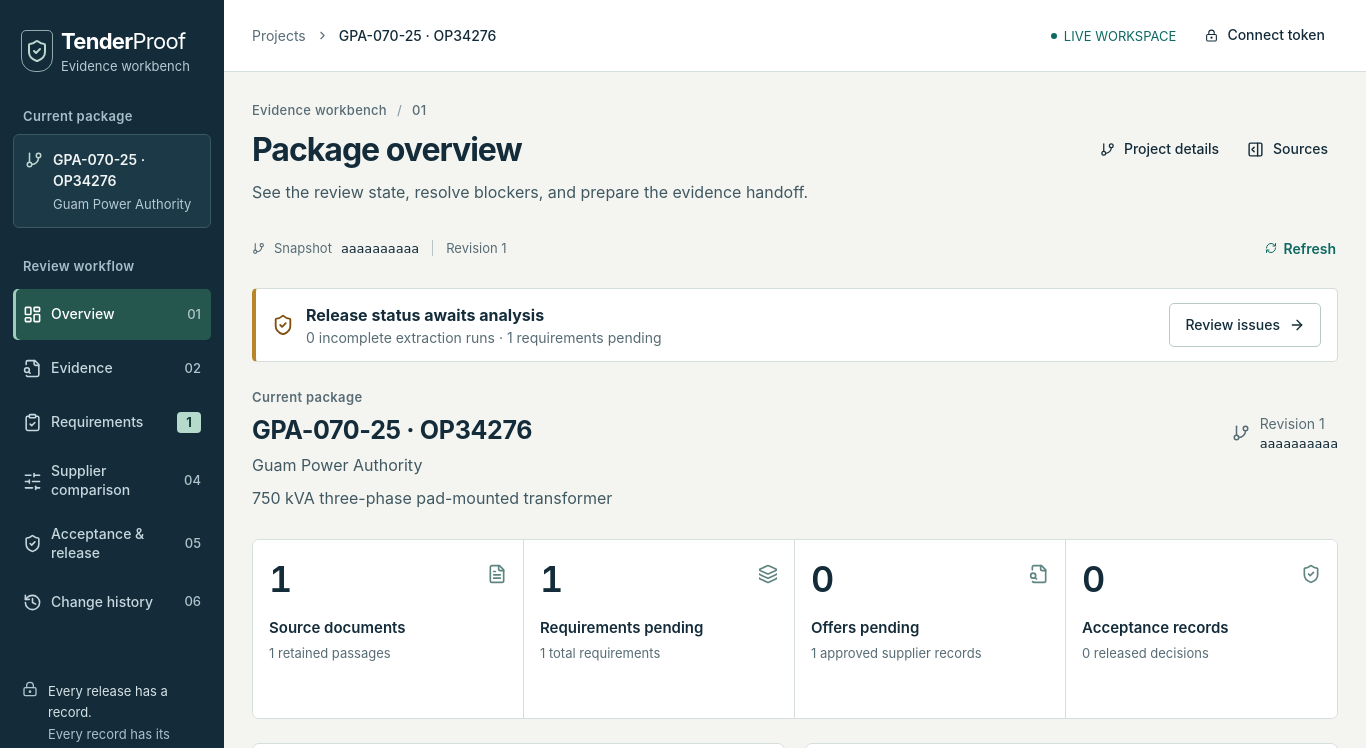
Test: live engineering workspace › shows currency and explicit price basis lot_total with a neutral heading
This screenshot has width=1366, height=748.
Click the button "Requirements 1" at (112,423), box [13, 397, 211, 448]
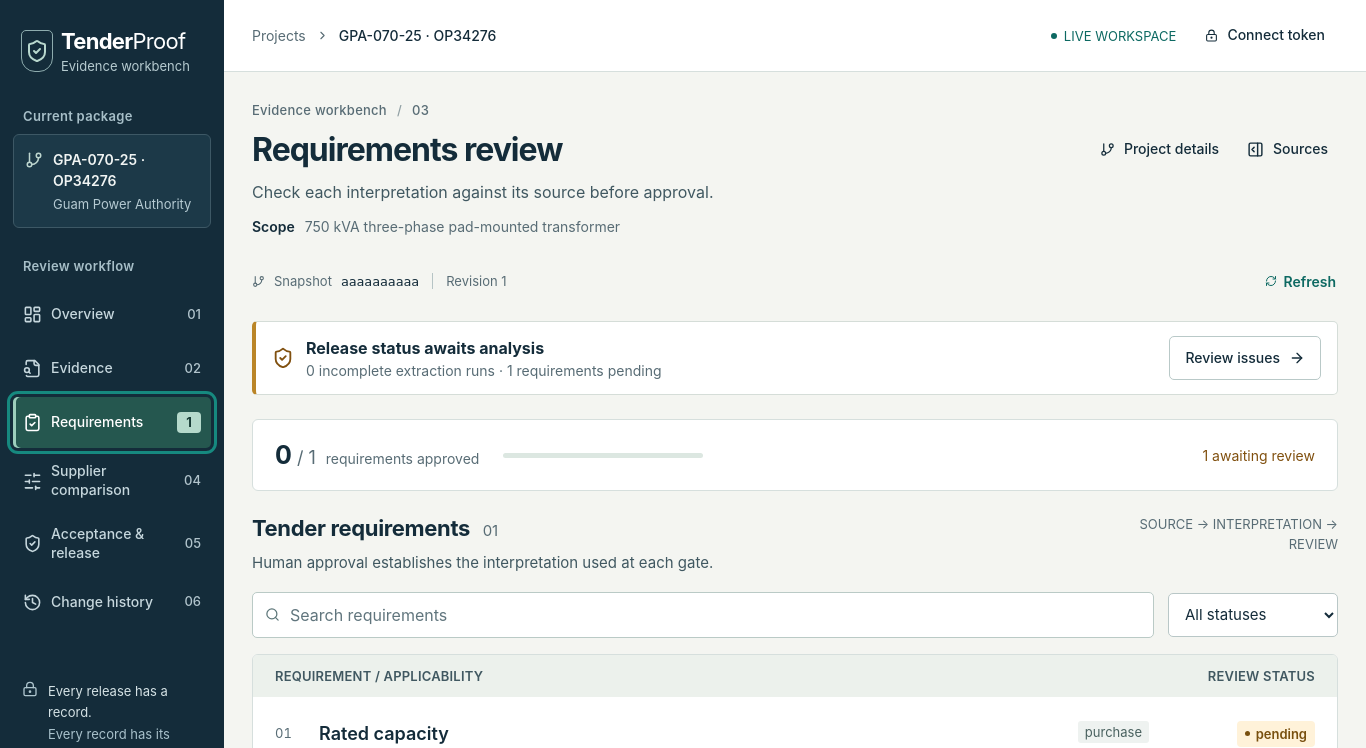
Click the button with aria-label "Toggle source inspector" at (1288,149), box [1237, 127, 1338, 171]
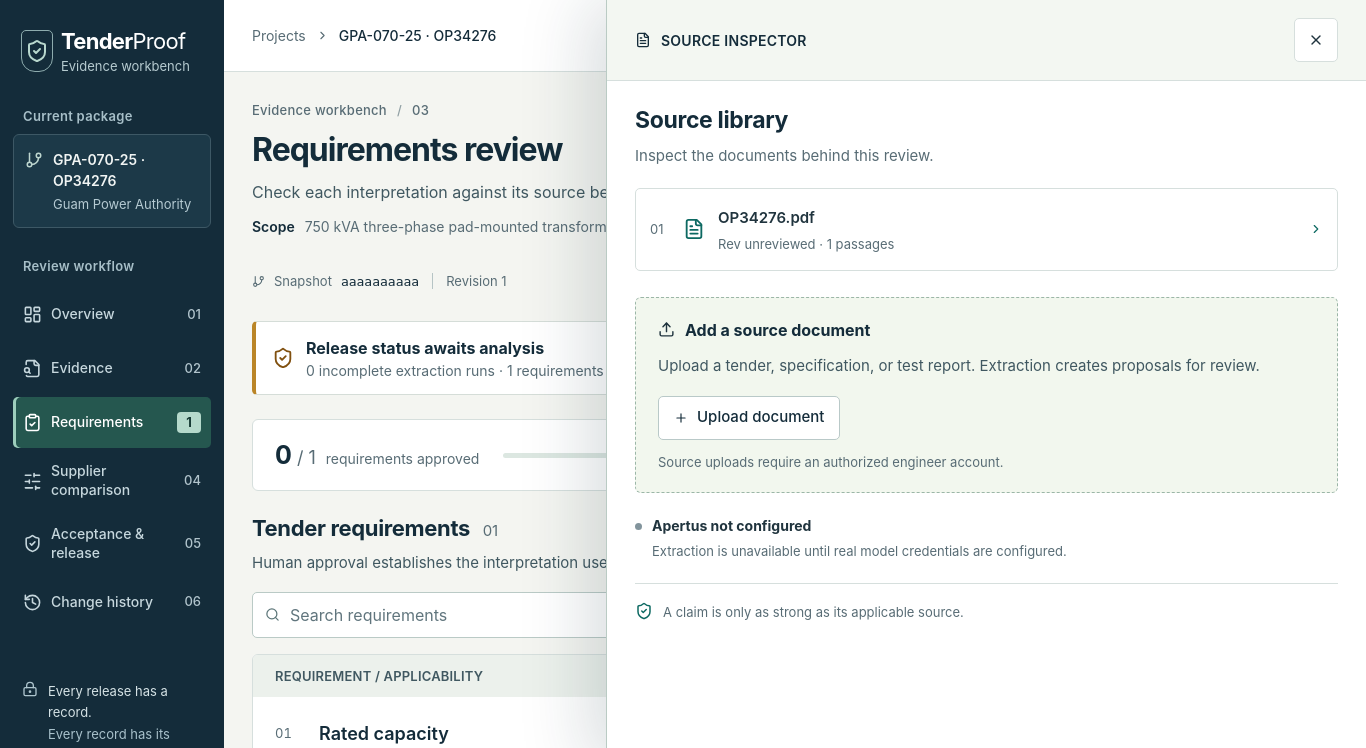
expect the heading "Rated capacity" is shown: met, box [319, 723, 449, 744]
Click the button "Supplier comparison 04" at (112,481), box [13, 451, 211, 511]
(page scrolled)
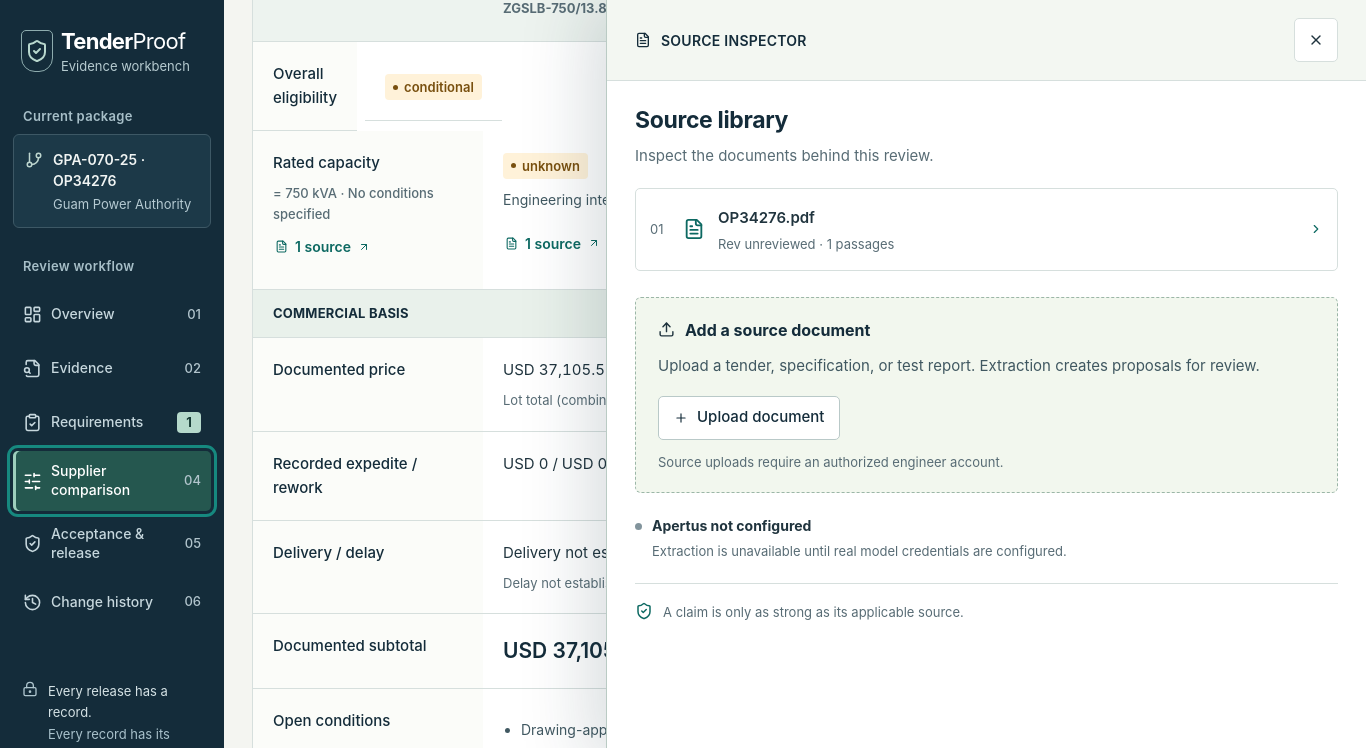
expect the row "Documented price USD 37,105.50 Lot total (combined)" is shown: met, box [253, 337, 1337, 431]
